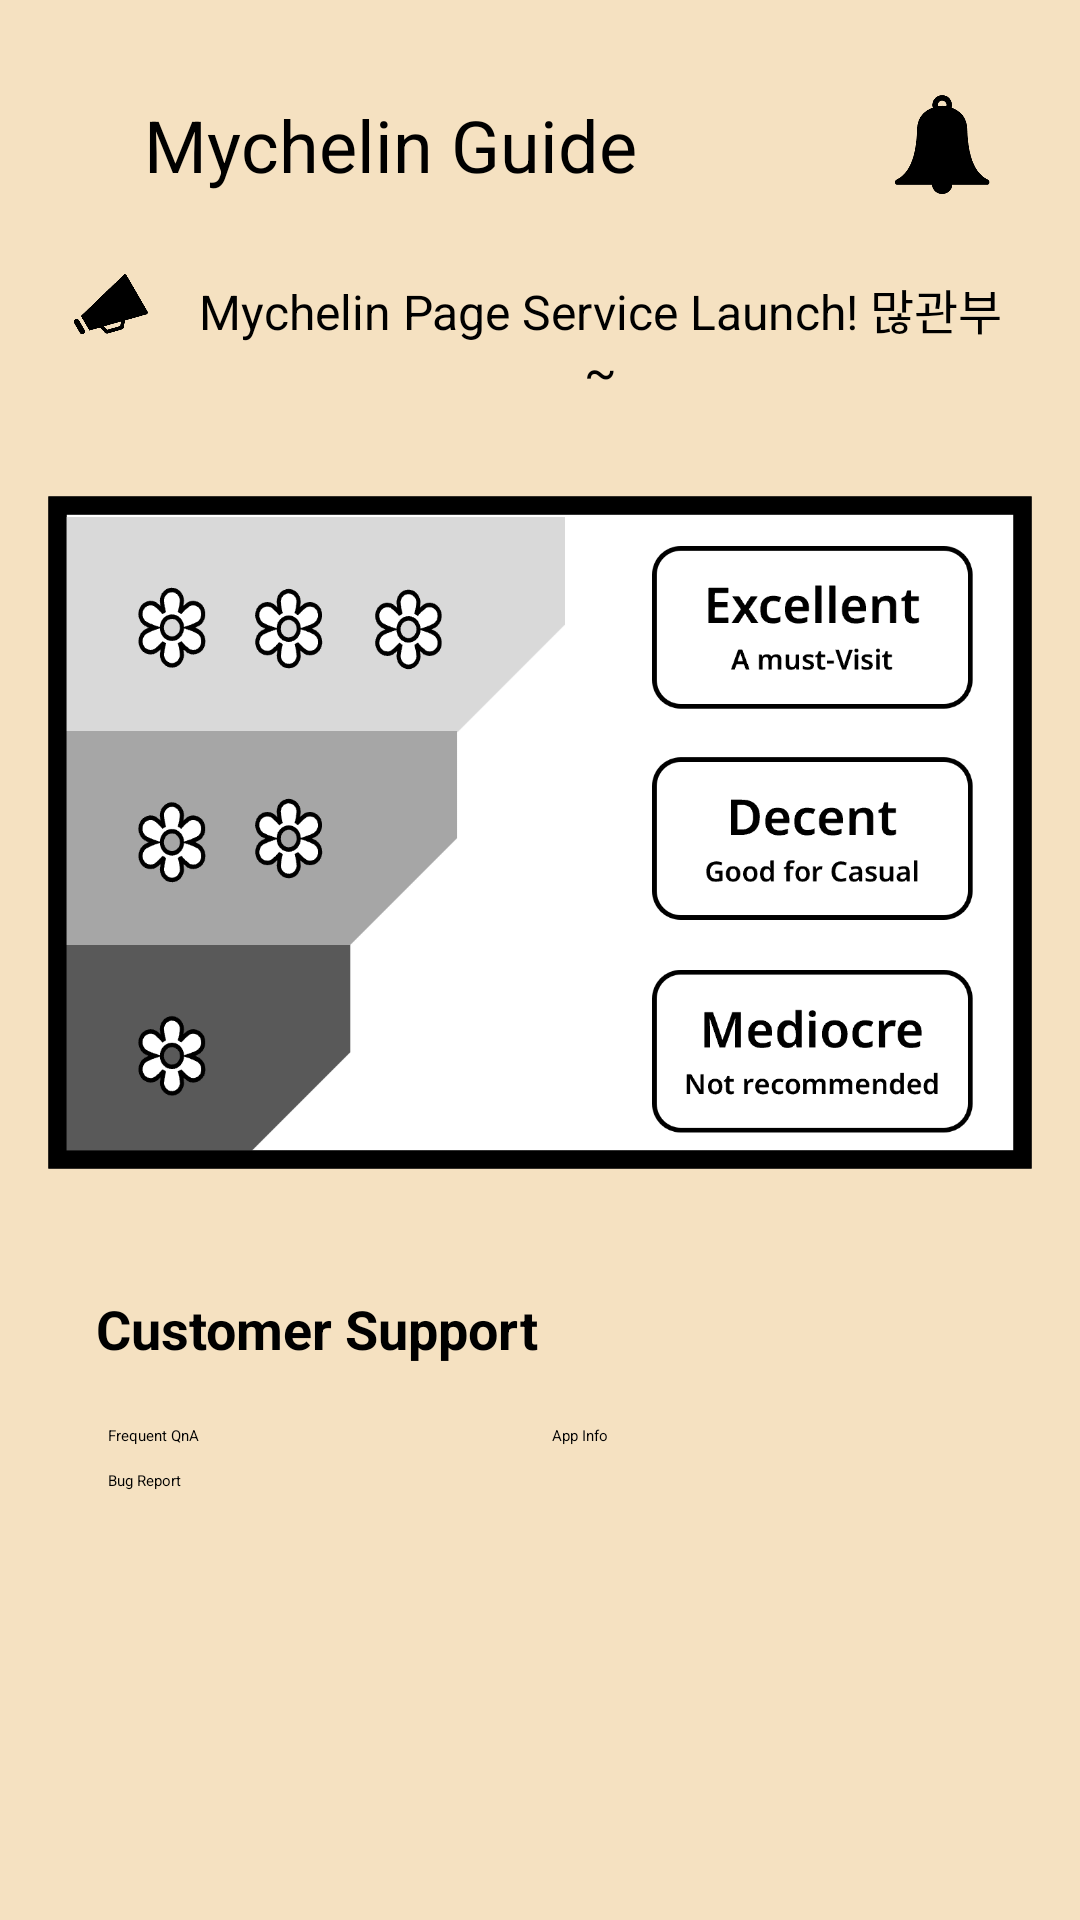

Point at icon controls on the screen. Image size 1080×1920, points as point (x, y).
announce: point (111, 304)
go to Notice: point (942, 144)
